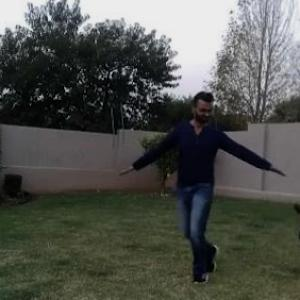land: (124, 100, 274, 267)
